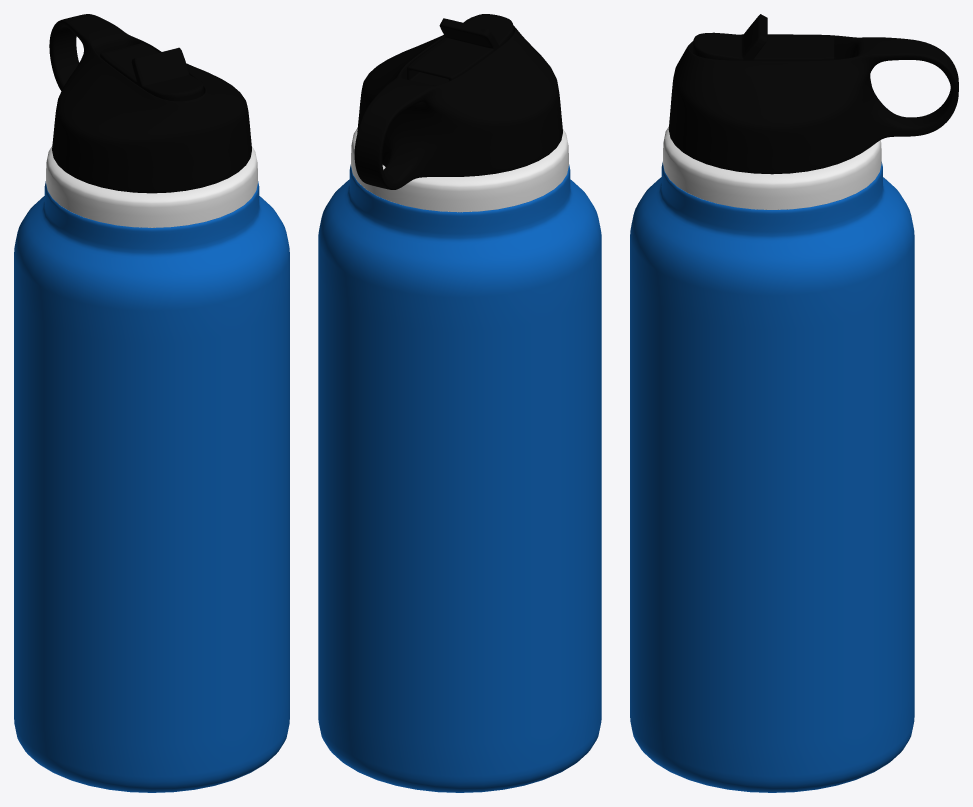
File: mug.glb
The picture shows the model from 3 angles, left to right: view 1: azimuth 30°, elevation 25°; view 2: azimuth 150°, elevation 25°; view 3: azimuth 270°, elevation 25°; orthographic projection. The views are drawn at different scales.
Visible parts, largest first — view 1: main_Baked, top_Baked, middle_Baked, mouth_Baked; view 2: main_Baked, top_Baked, middle_Baked, mouth_Baked; view 3: main_Baked, top_Baked, middle_Baked, mouth_Baked.
Part boxes in pixels (x1,y1,x2,y2): main_Baked: [14, 181, 289, 792]; top_Baked: [49, 14, 251, 193]; middle_Baked: [46, 146, 257, 227]; mouth_Baked: [100, 43, 203, 101]; main_Baked: [318, 164, 601, 792]; top_Baked: [354, 25, 562, 189]; middle_Baked: [351, 128, 568, 212]; mouth_Baked: [407, 14, 513, 85]; main_Baked: [630, 162, 914, 792]; top_Baked: [668, 34, 958, 174]; middle_Baked: [663, 126, 881, 209]; mouth_Baked: [693, 14, 834, 60].
Size of the model in its own units: 0.1274 by 0.3534 by 0.1472.
1 material, 1 textured.
